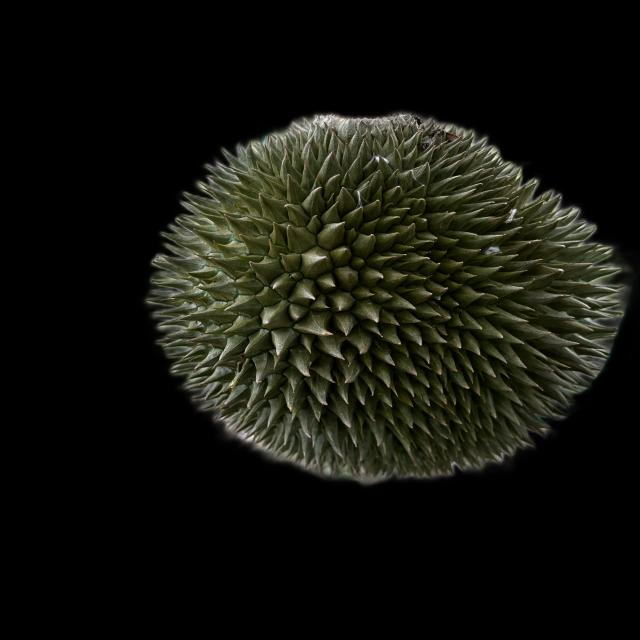immature: (147, 114, 628, 492)
